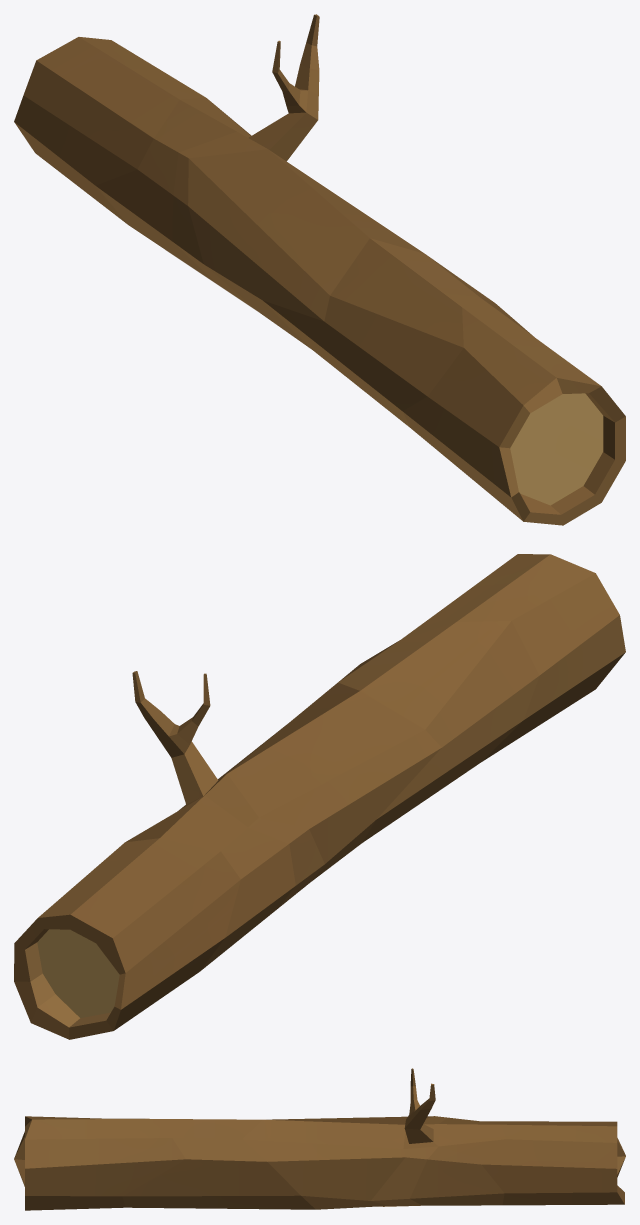
The model's file is log_2.glb.
3 views of the same model, one above another, from view 1: azimuth 30°, elevation 25°; view 2: azimuth 150°, elevation 25°; view 3: azimuth 270°, elevation 25° (orthographic). The views are drawn at different scales.
Visible parts, largest first — view 1: log_2; view 2: log_2; view 3: log_2.
Boxes of the visible parts, <box> form: log_2: <box>14,14,625,525</box>; log_2: <box>14,554,625,1039</box>; log_2: <box>14,1068,625,1210</box>.
Size of the model in its own units: 0.1991 by 0.2961 by 1.1.
1 material, 1 textured.
